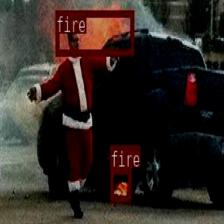fire: (55, 10, 133, 54), (110, 168, 131, 200)
